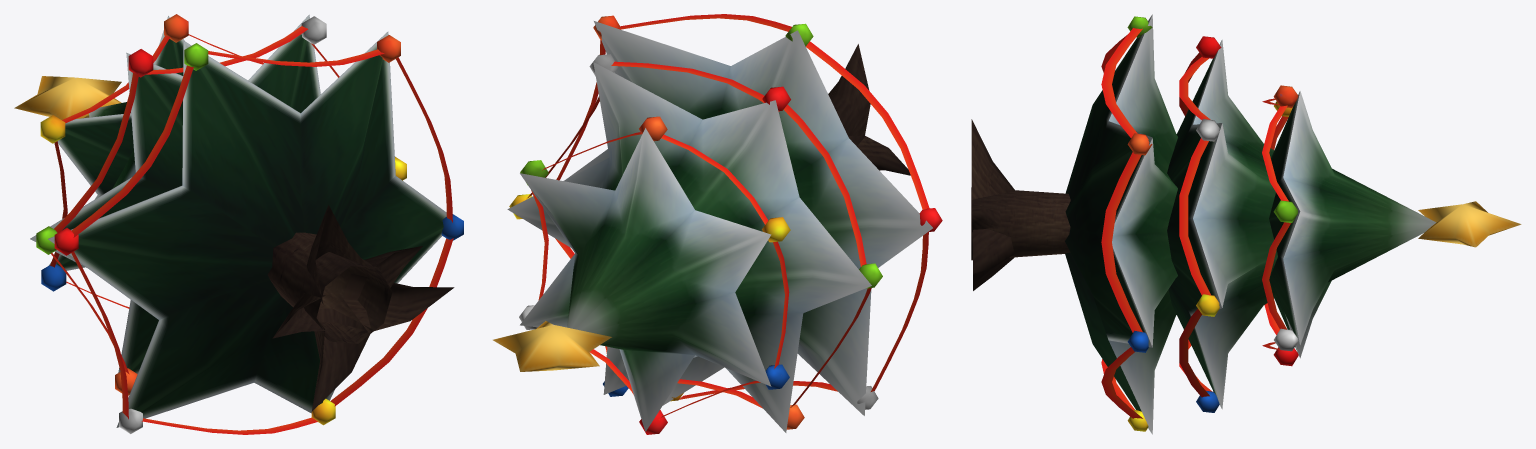
Rendered from Christmas_Tree_D.fbx.
The picture shows the model from 3 angles, left to right: view 1: azimuth 30°, elevation 25°; view 2: azimuth 150°, elevation 25°; view 3: azimuth 270°, elevation 25°; orthographic projection. The views are drawn at different scales.
Visible parts, largest first — view 1: Christmas_Tree_D; view 2: Christmas_Tree_D; view 3: Christmas_Tree_D.
Boxes of the visible parts, <box> form: Christmas_Tree_D: <box>14,14,463,434</box>; Christmas_Tree_D: <box>493,14,942,434</box>; Christmas_Tree_D: <box>971,14,1521,434</box>.
Bounding box in the file's own units: 68.48 × 65.78 × 90.7.
